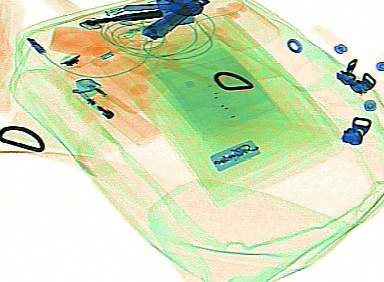lighter: (67, 75, 159, 146)
